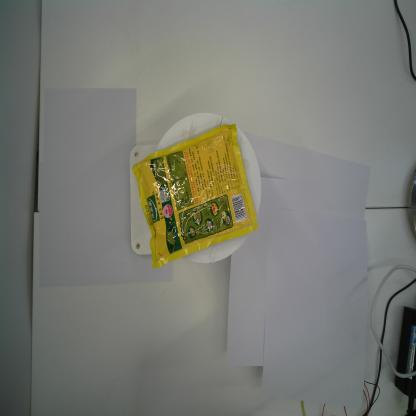Seasoner: (132, 121, 261, 272)
